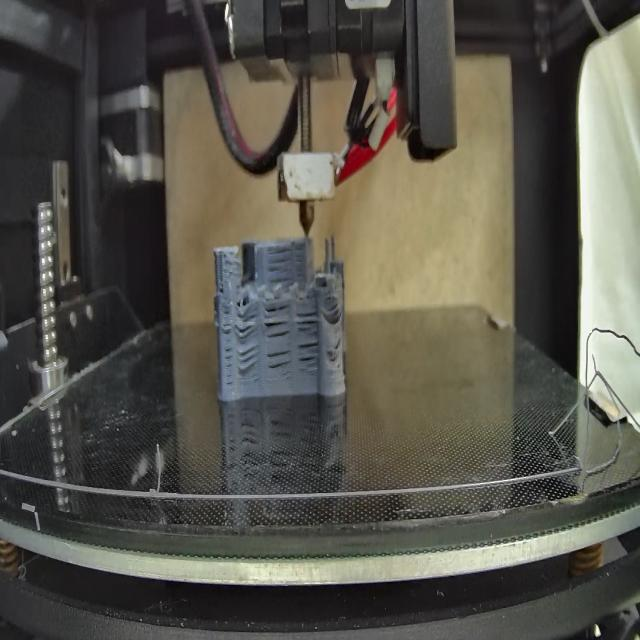cracks: (264, 244, 295, 283), (263, 302, 292, 341), (264, 348, 294, 384), (223, 312, 234, 387), (238, 342, 260, 376), (235, 311, 259, 342), (296, 303, 318, 332), (297, 342, 320, 369), (329, 302, 344, 326), (330, 335, 342, 354), (218, 278, 226, 300)
